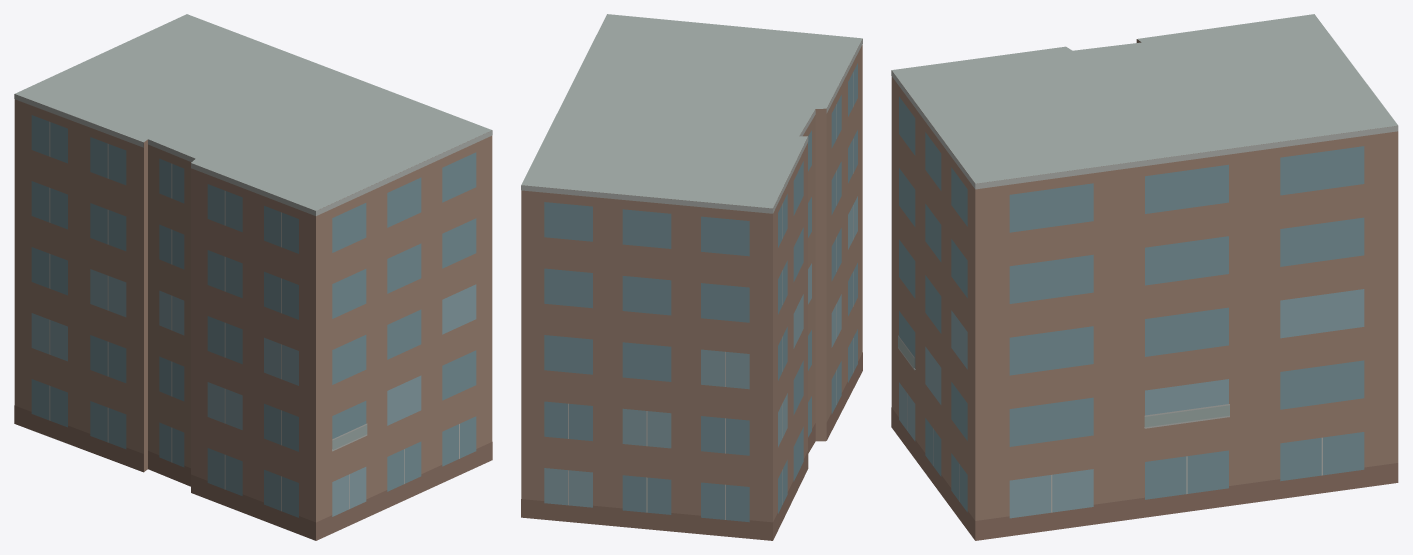
Rendered from survey-upis-32971866.glb.
3 renders of one model, left to right at view 1: azimuth 30°, elevation 25°; view 2: azimuth 150°, elevation 25°; view 3: azimuth 270°, elevation 25°, orthographic. The views are drawn at different scales.
Parts seen in each view (by area): view 1: survey-upis-32971866.tmp; view 2: survey-upis-32971866.tmp; view 3: survey-upis-32971866.tmp.
Part boxes in pixels (x1,y1,x2,y2): survey-upis-32971866.tmp: [14, 14, 492, 540]; survey-upis-32971866.tmp: [521, 14, 862, 540]; survey-upis-32971866.tmp: [891, 14, 1398, 540].
Size of the model in its own units: 15.55 by 15.25 by 19.62.
